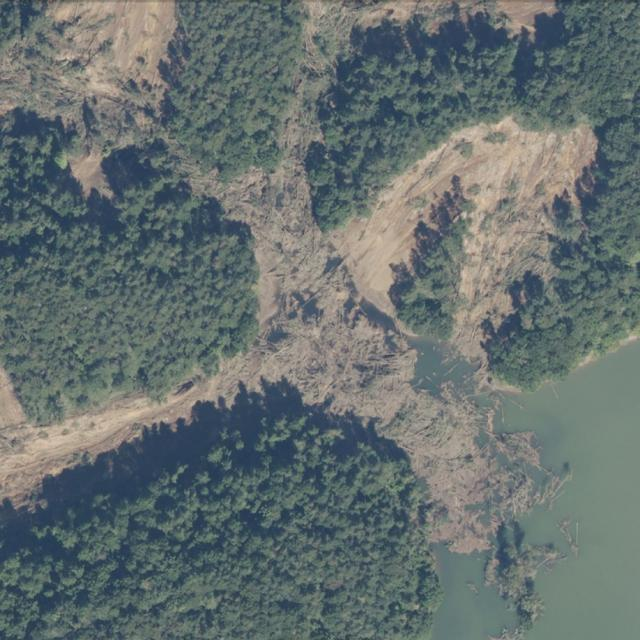landslide: (329, 116, 599, 361)
